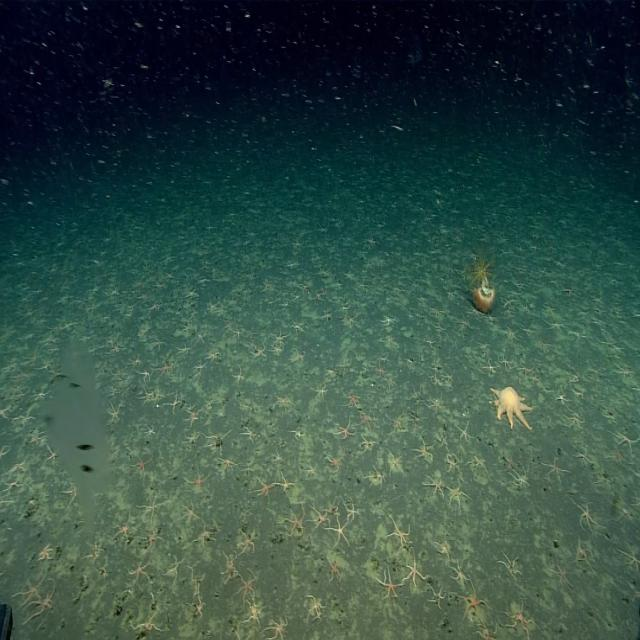brittle-stars: (462, 583, 487, 619), (572, 499, 598, 532), (33, 583, 55, 621), (508, 602, 533, 634), (235, 572, 258, 604), (404, 558, 426, 590), (139, 493, 164, 521), (18, 577, 43, 605), (378, 569, 401, 599), (283, 506, 305, 537), (388, 518, 410, 547), (134, 610, 160, 634), (331, 517, 351, 547), (614, 498, 637, 524), (499, 553, 521, 580), (543, 457, 566, 482), (614, 430, 639, 453), (549, 559, 571, 585), (187, 470, 210, 494), (306, 594, 326, 621), (128, 560, 150, 584), (574, 540, 592, 569), (266, 617, 288, 640), (238, 528, 257, 554), (114, 517, 132, 544), (205, 431, 228, 452), (424, 475, 444, 499), (244, 604, 264, 628), (472, 616, 496, 636), (621, 548, 640, 573), (131, 455, 152, 477), (6, 457, 28, 478), (310, 506, 330, 529), (449, 482, 468, 506), (365, 466, 385, 488), (143, 527, 163, 549), (415, 439, 434, 462), (222, 553, 237, 582), (336, 419, 356, 440), (606, 446, 626, 467), (180, 500, 198, 523), (387, 450, 404, 474), (193, 527, 210, 551), (328, 557, 344, 582), (3, 477, 24, 496), (62, 482, 80, 504), (452, 561, 469, 584), (358, 408, 375, 431), (327, 451, 345, 472), (594, 469, 612, 490), (513, 467, 530, 489), (431, 585, 447, 608), (275, 473, 294, 492), (572, 446, 590, 466), (344, 501, 360, 523), (456, 422, 473, 442), (275, 392, 293, 410), (255, 479, 272, 498), (566, 413, 584, 430), (344, 391, 361, 409), (158, 361, 176, 378), (107, 404, 122, 424), (38, 542, 53, 562), (218, 457, 235, 474), (428, 395, 444, 413), (191, 595, 204, 617), (44, 445, 58, 465), (360, 436, 376, 453), (184, 408, 199, 426), (546, 320, 564, 335), (438, 538, 452, 557), (240, 426, 256, 442), (472, 455, 488, 471), (518, 361, 535, 376), (498, 352, 512, 370), (291, 347, 305, 365), (313, 384, 328, 400), (273, 331, 289, 346), (456, 315, 471, 331), (392, 413, 404, 433), (168, 395, 182, 412), (234, 366, 245, 387), (0, 443, 10, 466), (0, 404, 12, 423), (150, 337, 165, 352), (184, 430, 199, 445), (520, 322, 536, 336), (252, 345, 266, 361), (504, 324, 518, 340), (290, 426, 304, 442), (376, 360, 388, 378), (177, 342, 191, 357), (138, 369, 152, 384), (110, 342, 124, 357), (111, 365, 126, 379), (196, 329, 208, 346), (184, 286, 198, 300), (556, 390, 569, 405), (207, 351, 222, 364), (381, 314, 396, 327), (430, 307, 445, 320), (484, 357, 496, 373), (208, 298, 219, 314), (544, 302, 557, 315), (271, 345, 284, 357), (542, 304, 554, 317), (145, 424, 156, 438), (504, 456, 515, 470), (431, 374, 442, 388), (344, 269, 356, 281), (444, 371, 455, 384), (291, 290, 301, 303)
